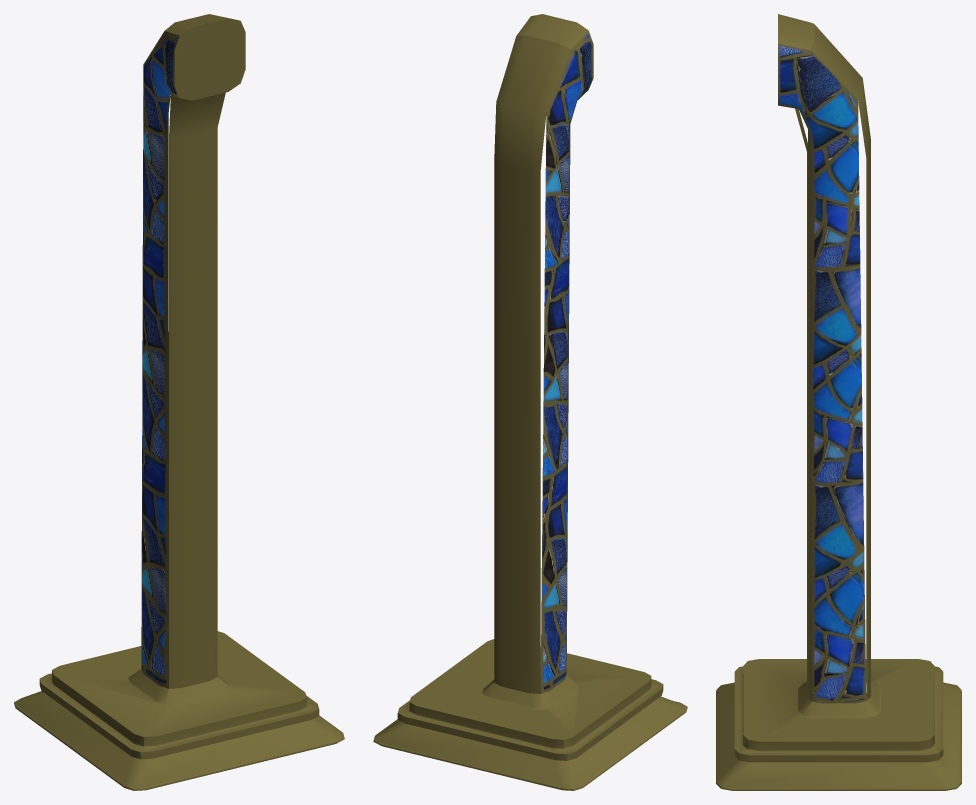
The model's file is rotatingLeverBase_lowPoly.glb.
3 views of the same model, side by side, from view 1: azimuth 30°, elevation 25°; view 2: azimuth 150°, elevation 25°; view 3: azimuth 270°, elevation 25° (orthographic). The views are drawn at different scales.
Parts seen in each view (by area): view 1: Mesh_1; view 2: Mesh_1; view 3: Mesh_1.
Part boxes in pixels (left/top/right/bottom): Mesh_1: left=14, top=14, right=344, bottom=790; Mesh_1: left=373, top=14, right=687, bottom=790; Mesh_1: left=716, top=14, right=961, bottom=790.
Bounding box in the file's own units: 0.208 × 0.6533 × 0.2035.
1 material, 1 textured.
